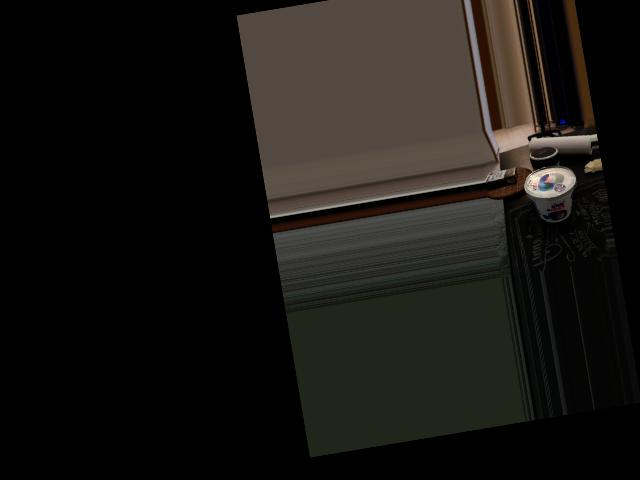cotage: (524, 161, 583, 229)
